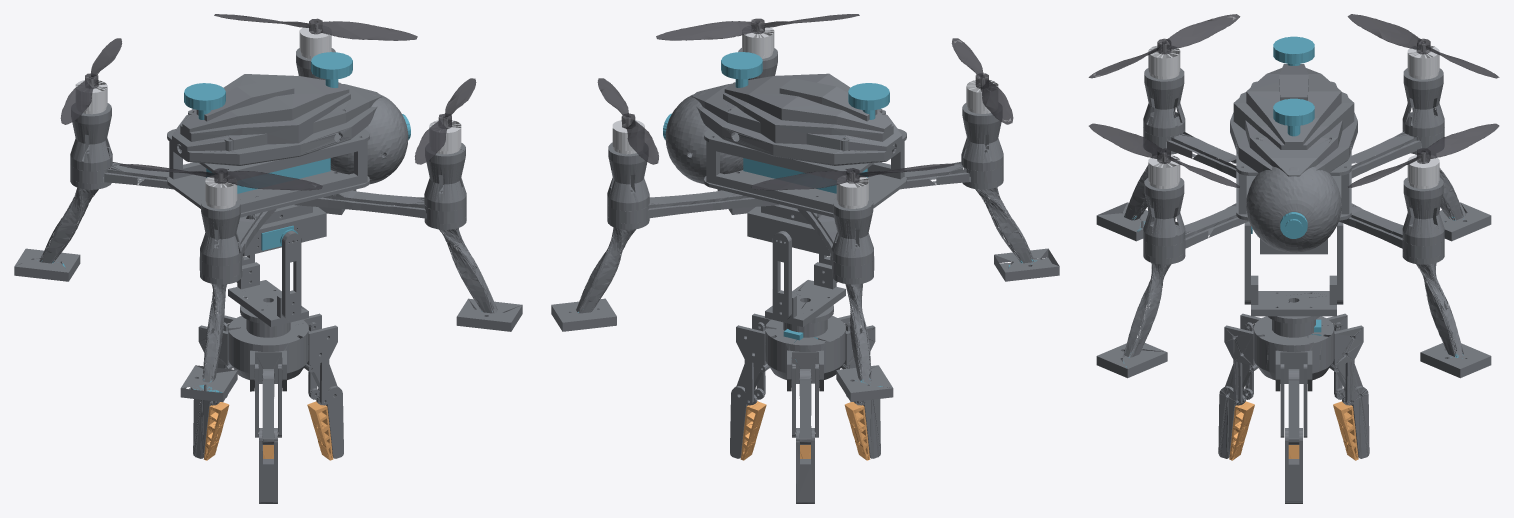
File: perseus.glb
The picture shows the model from 3 angles, left to right: view 1: azimuth 30°, elevation 25°; view 2: azimuth 150°, elevation 25°; view 3: azimuth 270°, elevation 25°; orthographic projection.
Visible parts, largest first — view 1: Perseus V2; view 2: Perseus V2; view 3: Perseus V2.
Part boxes in pixels (x1,y1,x2,y2): Perseus V2: [14, 14, 522, 503]; Perseus V2: [551, 14, 1059, 503]; Perseus V2: [1088, 14, 1499, 503].
Bounding box in the file's own units: 0.449 × 0.476 × 0.449.
